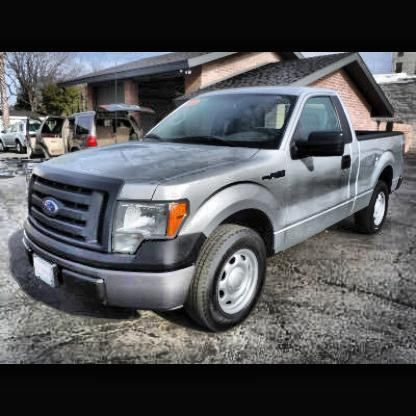Ford F-150 Regular Cab 2012: (21, 85, 409, 340)
